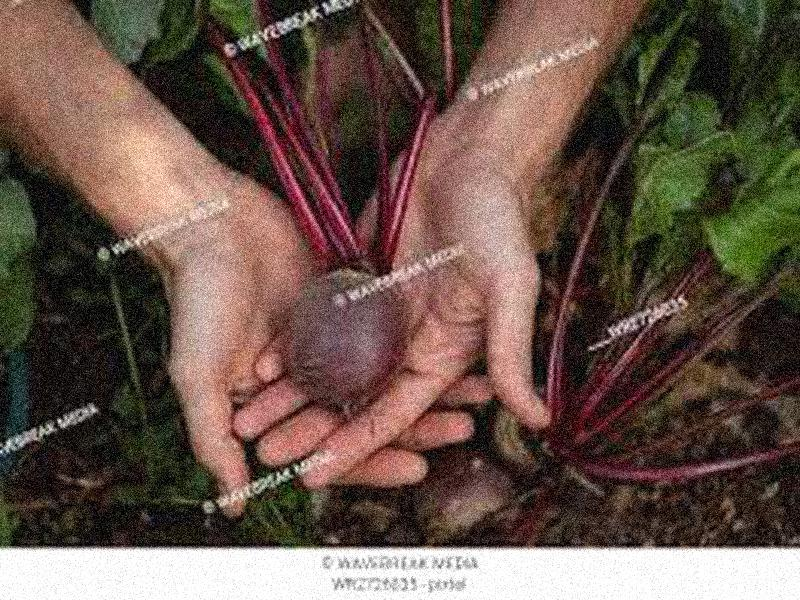Beet: (198, 12, 438, 419)
